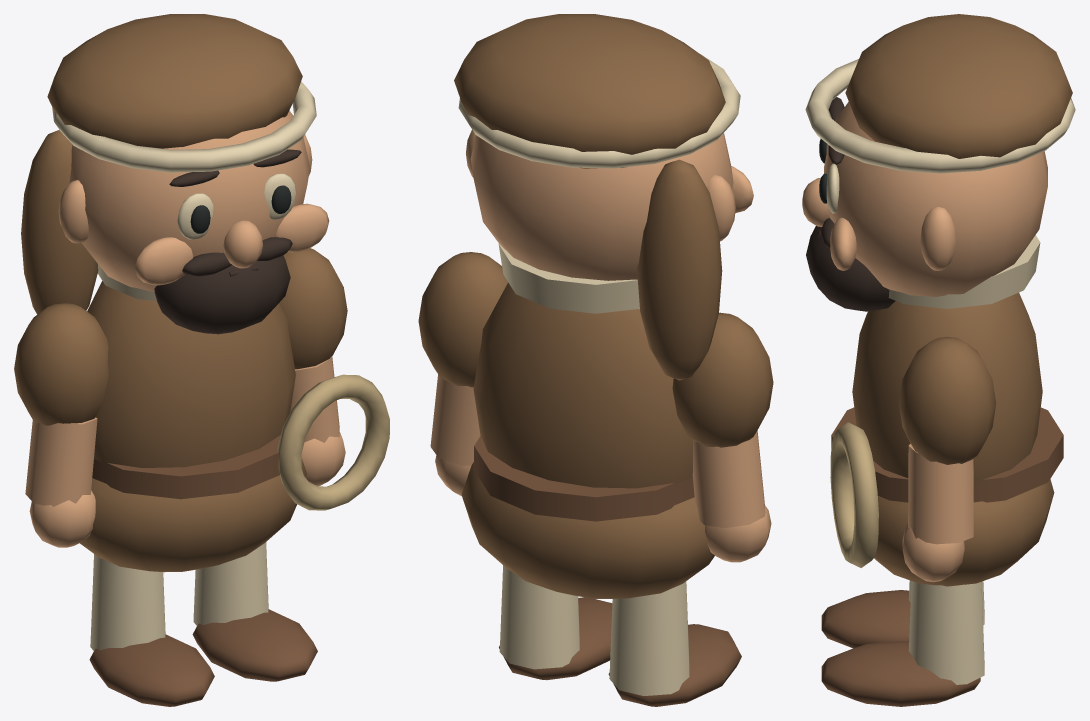
The model's file is character_lot.glb.
3 renders of one model, left to right at view 1: azimuth 30°, elevation 25°; view 2: azimuth 150°, elevation 25°; view 3: azimuth 270°, elevation 25°, orthographic. The views are drawn at different scales.
Parts seen in each view (by area): view 1: batch_lot_0, batch_lot_2, batch_arm_left_0, batch_lot_4, batch_lot_1, batch_arm_left_1, batch_lot_6, batch_leg_right_1, batch_leg_left_1, batch_arm_right_0, batch_lot_5, batch_leg_left_0 (+3 smaller); view 2: batch_lot_0, batch_lot_2, batch_lot_1, batch_arm_left_0, batch_arm_right_0, batch_leg_left_0, batch_arm_left_1, batch_lot_5, batch_leg_right_0, batch_arm_right_1, batch_leg_left_1, batch_leg_right_1; view 3: batch_lot_0, batch_lot_2, batch_lot_1, batch_arm_right_0, batch_arm_right_1, batch_leg_right_0, batch_leg_right_1, batch_lot_6, batch_lot_5, batch_lot_4, batch_leg_left_1.
Boxes of the visible parts, x1=… form: batch_lot_0: x1=21, y1=14, x2=306, y2=572; batch_lot_2: x1=58, y1=110, x2=329, y2=292; batch_arm_left_0: x1=14, y1=303, x2=108, y2=425; batch_lot_4: x1=154, y1=149, x2=301, y2=334; batch_lot_1: x1=52, y1=81, x2=316, y2=301; batch_arm_left_1: x1=25, y1=417, x2=97, y2=547; batch_lot_6: x1=277, y1=374, x2=389, y2=510; batch_leg_right_1: x1=192, y1=609, x2=317, y2=681; batch_leg_left_1: x1=89, y1=634, x2=214, y2=706; batch_arm_right_0: x1=279, y1=248, x2=347, y2=369; batch_lot_5: x1=92, y1=435, x2=280, y2=499; batch_leg_left_0: x1=90, y1=554, x2=165, y2=650; batch_lot_0: x1=454, y1=14, x2=725, y2=599; batch_lot_2: x1=466, y1=129, x2=753, y2=280; batch_lot_1: x1=458, y1=54, x2=740, y2=313; batch_arm_left_0: x1=672, y1=312, x2=773, y2=447; batch_arm_right_0: x1=418, y1=252, x2=507, y2=387; batch_leg_left_0: x1=609, y1=581, x2=689, y2=695; batch_arm_left_1: x1=692, y1=430, x2=771, y2=562; batch_lot_5: x1=474, y1=436, x2=694, y2=521; batch_leg_right_0: x1=499, y1=565, x2=579, y2=669; batch_arm_right_1: x1=430, y1=374, x2=480, y2=496; batch_leg_left_1: x1=608, y1=624, x2=741, y2=706; batch_leg_right_1: x1=499, y1=597, x2=612, y2=680; batch_lot_0: x1=845, y1=14, x2=1072, y2=586; batch_lot_2: x1=802, y1=101, x2=1047, y2=296; batch_lot_1: x1=805, y1=59, x2=1075, y2=308; batch_arm_right_0: x1=898, y1=336, x2=996, y2=464; batch_arm_right_1: x1=902, y1=444, x2=973, y2=582; batch_leg_right_0: x1=908, y1=581, x2=984, y2=684; batch_leg_right_1: x1=821, y1=641, x2=980, y2=706; batch_lot_6: x1=830, y1=422, x2=878, y2=567; batch_lot_5: x1=831, y1=407, x2=1063, y2=502; batch_lot_4: x1=806, y1=97, x2=895, y2=311; batch_leg_left_1: x1=821, y1=590, x2=910, y2=648.
Size of the model in its own units: 0.8281 by 1.5 by 0.5888.
